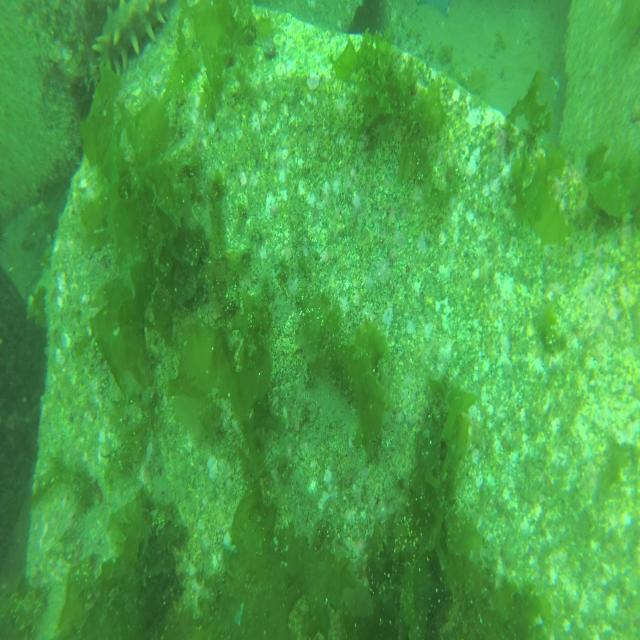holothurian: (92, 0, 171, 79)
starfish: (415, 0, 453, 16)
